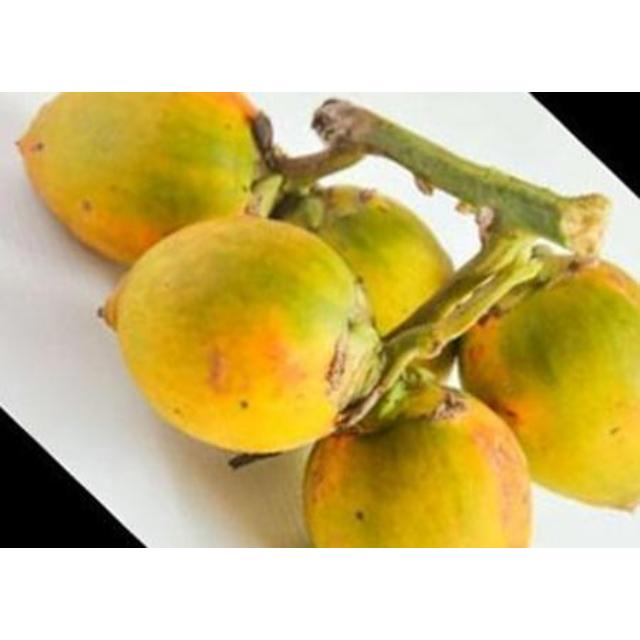good: (106, 194, 640, 548), (16, 92, 316, 272)
